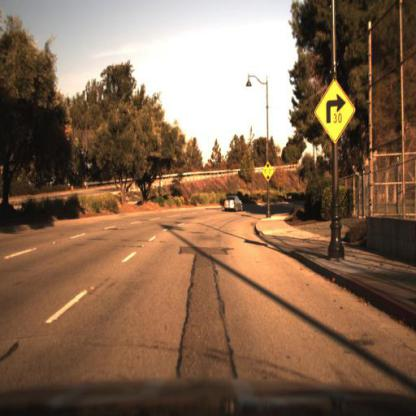car: (223, 193, 243, 216)
